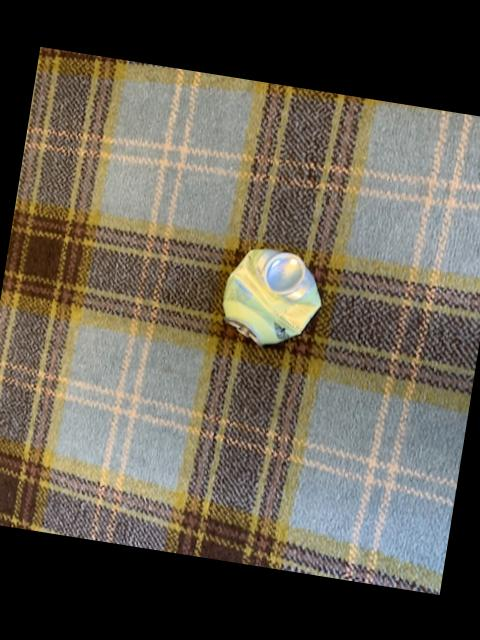metal: (225, 247, 323, 343)
